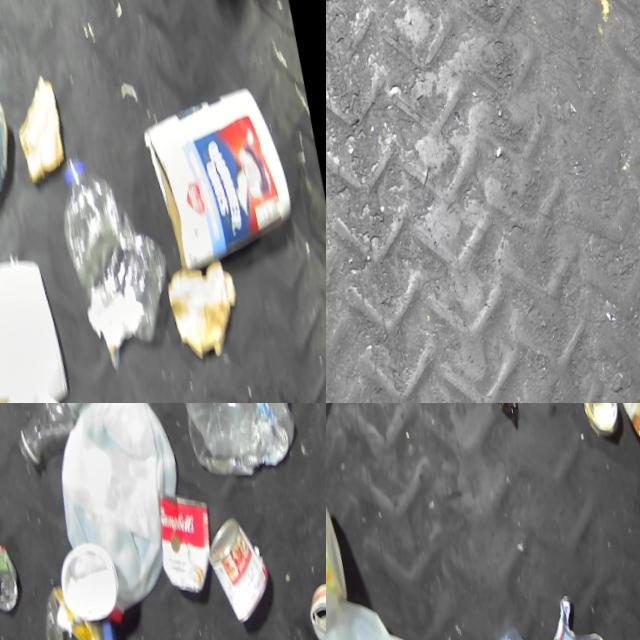can: (203, 505, 284, 625), (150, 481, 231, 597), (0, 72, 27, 206), (0, 533, 30, 618), (575, 403, 628, 438), (305, 570, 326, 640)
milk_jug: (35, 403, 215, 628), (0, 246, 77, 403), (326, 583, 461, 640)
plastic_bottle: (46, 136, 191, 355), (0, 403, 139, 475), (36, 574, 139, 640), (174, 403, 267, 459)
